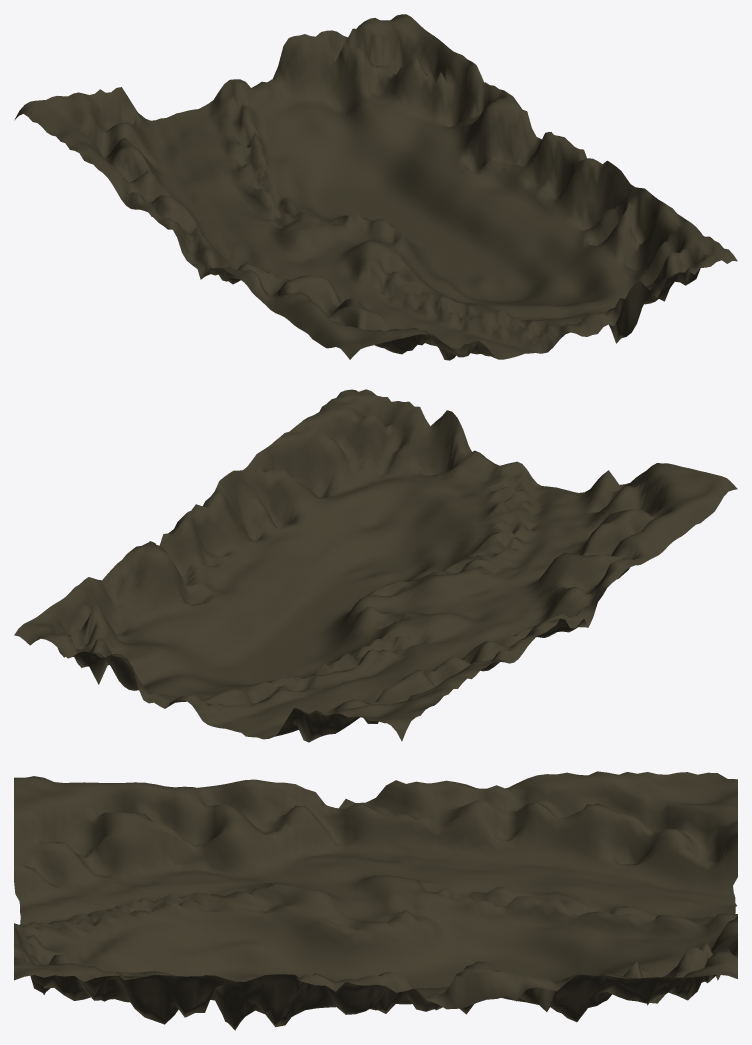
Rendered from Lake_Cavern_Floor.obj.
The picture shows the model from 3 angles, top to bottom: view 1: azimuth 30°, elevation 25°; view 2: azimuth 150°, elevation 25°; view 3: azimuth 270°, elevation 25°; orthographic projection. The views are drawn at different scales.
Visible parts, largest first — view 1: Lake_Cavern; view 2: Lake_Cavern; view 3: Lake_Cavern.
Part boxes in pixels (box(x1,y1,x2,y2)): Lake_Cavern: box(14, 14, 737, 360); Lake_Cavern: box(14, 389, 737, 742); Lake_Cavern: box(14, 771, 737, 1030).
Size of the model in its own units: 5281 by 997 by 7921.
